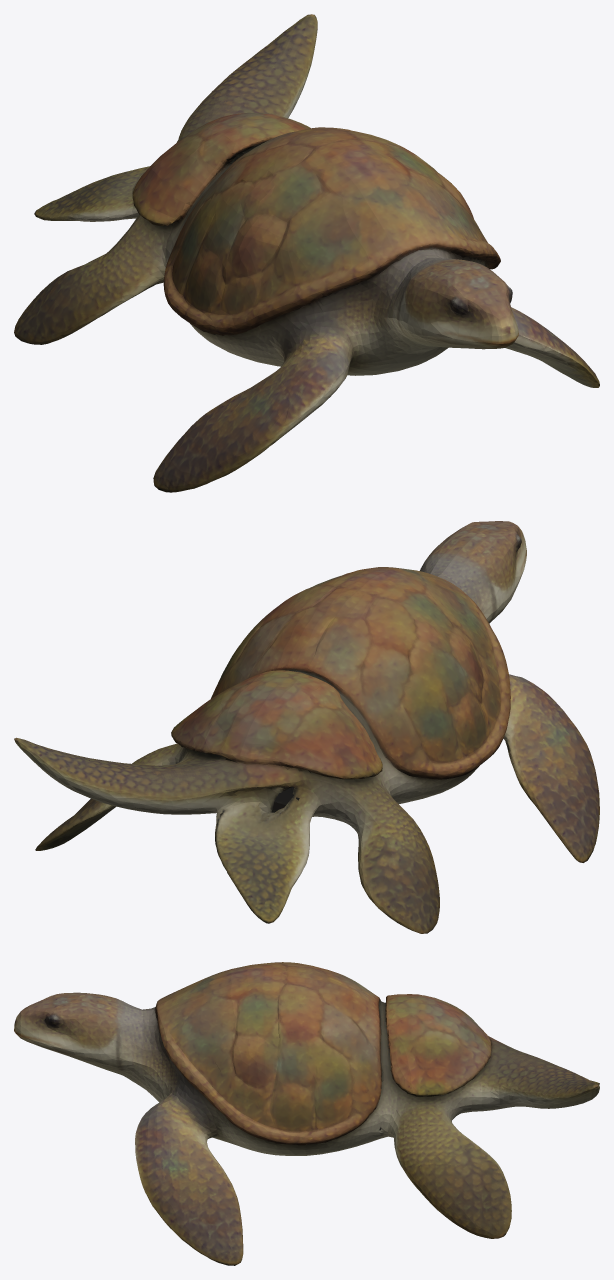
The picture shows the model from 3 angles, top to bottom: view 1: azimuth 30°, elevation 25°; view 2: azimuth 150°, elevation 25°; view 3: azimuth 270°, elevation 25°; orthographic projection. The views are drawn at different scales.
Visible parts, largest first — view 1: world; view 2: world; view 3: world.
Part boxes in pixels (box(x1,y1,x2,y2)): world: box(14, 14, 599, 492); world: box(14, 521, 599, 933); world: box(14, 962, 599, 1265).
Bounding box in the file's own units: 0.6679 × 0.4009 × 1.
Materials: 1 (1 with a texture image).
